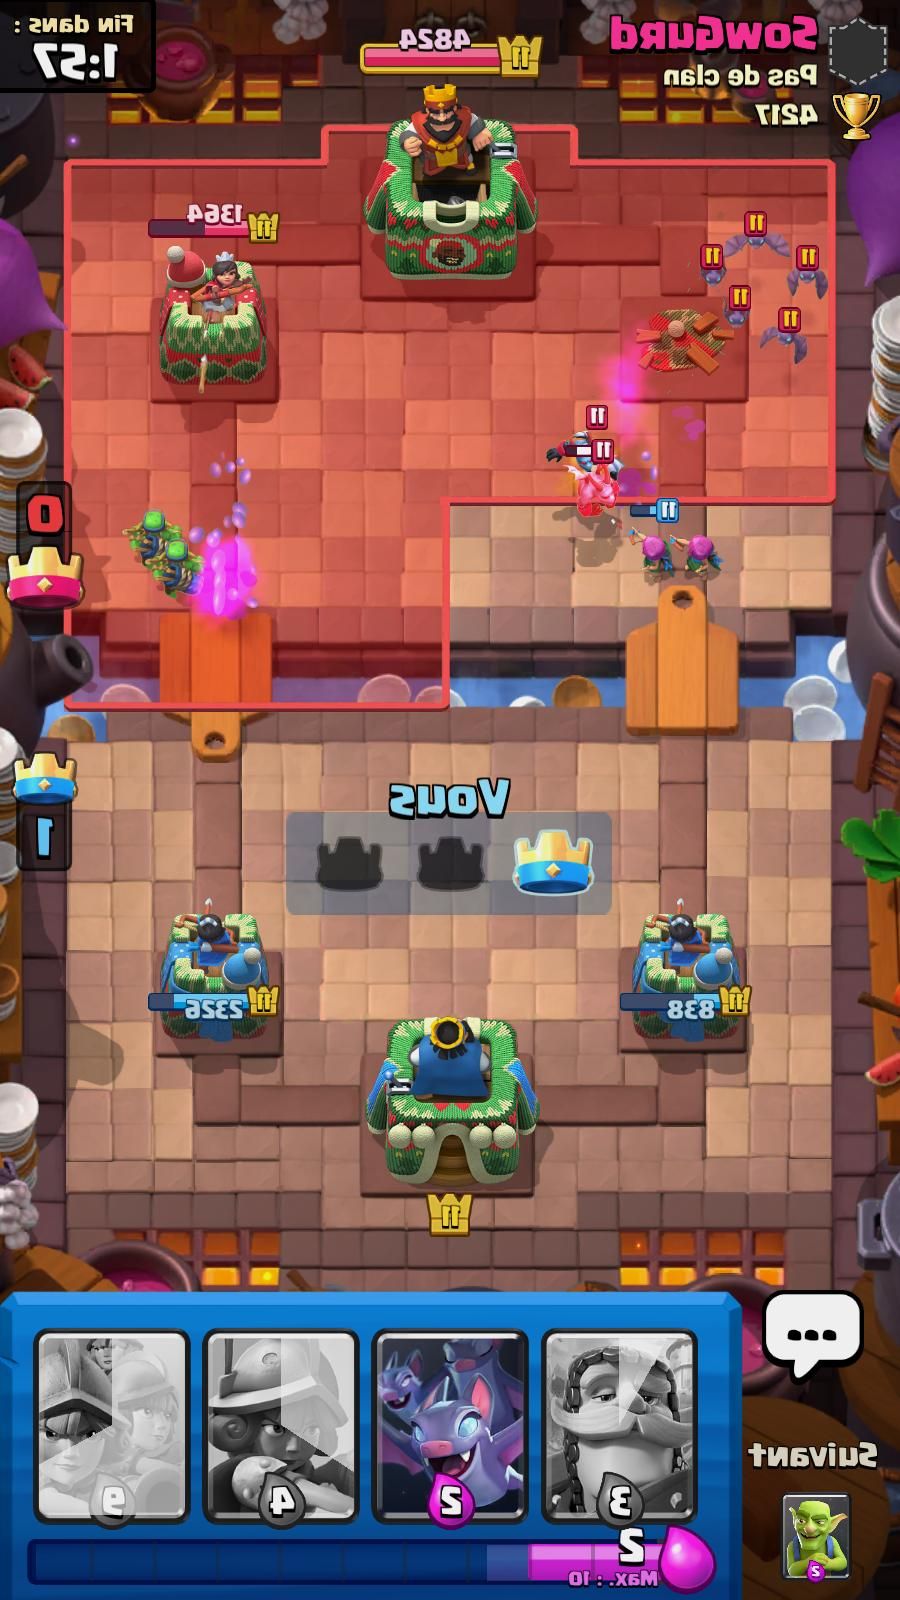archere: (624, 500, 680, 581), (668, 529, 721, 592)
bat: (722, 208, 792, 259), (759, 304, 809, 366), (787, 243, 830, 301), (698, 242, 726, 290), (721, 285, 751, 325)
gargouille: (543, 402, 610, 471), (568, 438, 618, 520)
gobelin_lances: (153, 535, 203, 611), (124, 507, 180, 570)
